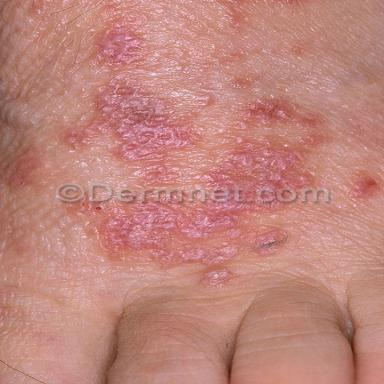lichen: (65, 201, 287, 285), (64, 72, 218, 162), (201, 97, 325, 188), (97, 27, 145, 67), (343, 169, 382, 198), (136, 167, 179, 182)
